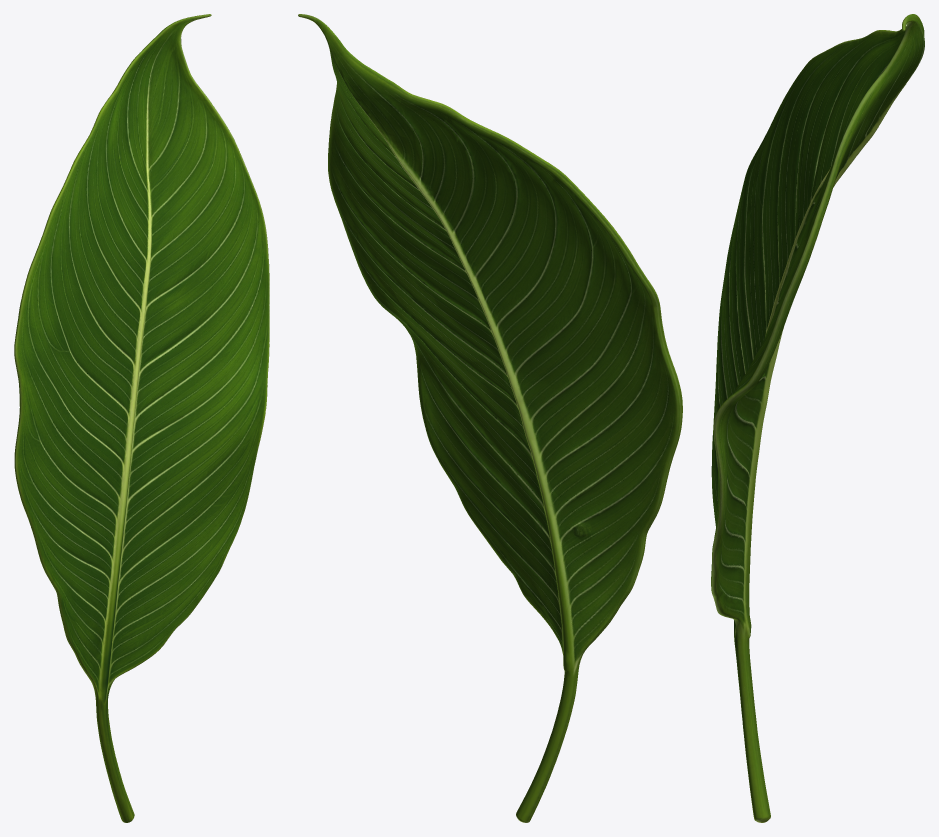
Rendered from rainforest-leaf.glb.
3 views of the same model, side by side, from view 1: azimuth 30°, elevation 25°; view 2: azimuth 150°, elevation 25°; view 3: azimuth 270°, elevation 25° (orthographic). The views are drawn at different scales.
Size of the model in its own units: 0.7683 by 1.9 by 0.4196.
1 material, 1 textured.
